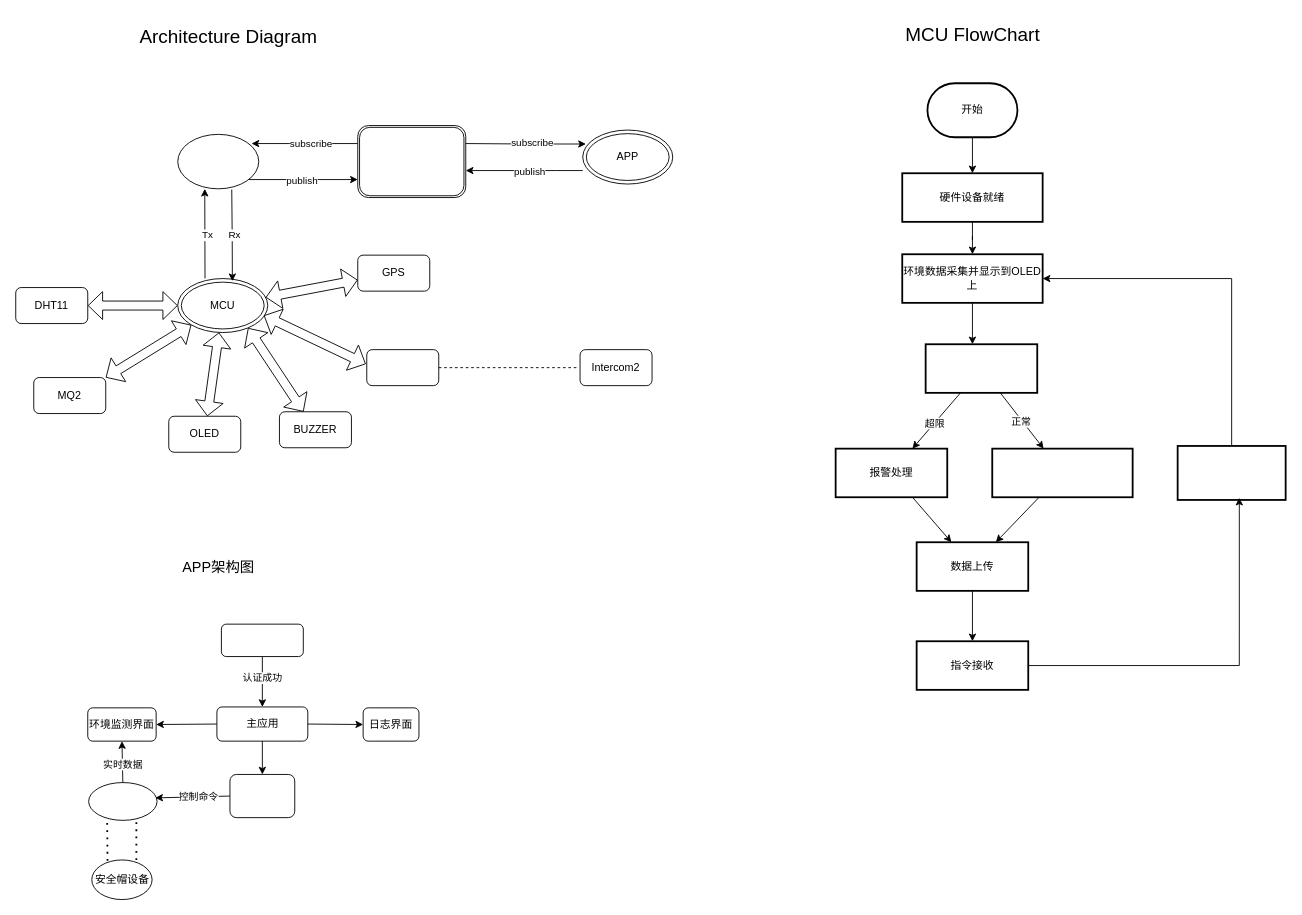
The diagram is 1302 pixels wide and 915 high, and some of its shapes have lost their labels. The shapes that lost their labels are listed below. From the top down, each one's centre as x and y in pixels, then its label:
[218,161]: ESP8266
[411,161]: MQTT Broker (EMQX Server)
[402,367]: Intercom1
[981,368]: 状态判断
[1062,472]: 等待下次采集
[1231,472]: 解析指令执行相应操作
[261,640]: 登陆界面
[122,801]: MQTT服务器
[262,796]: 控制界面(照明、阈值)
